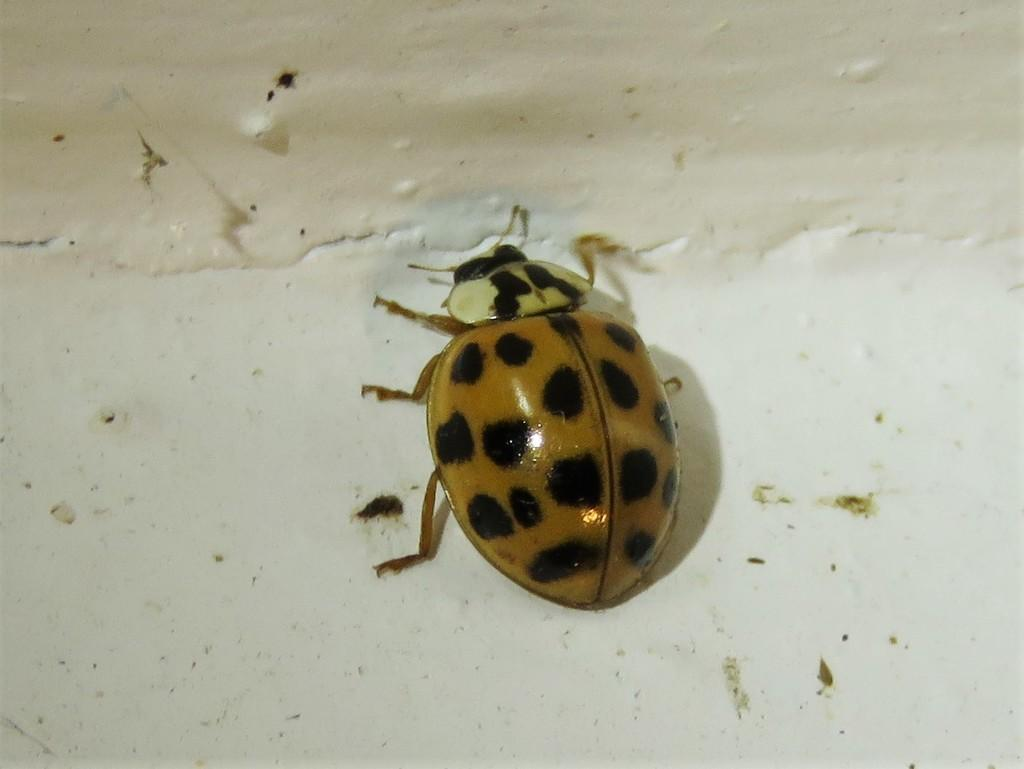ladybug: (359, 201, 689, 613)
